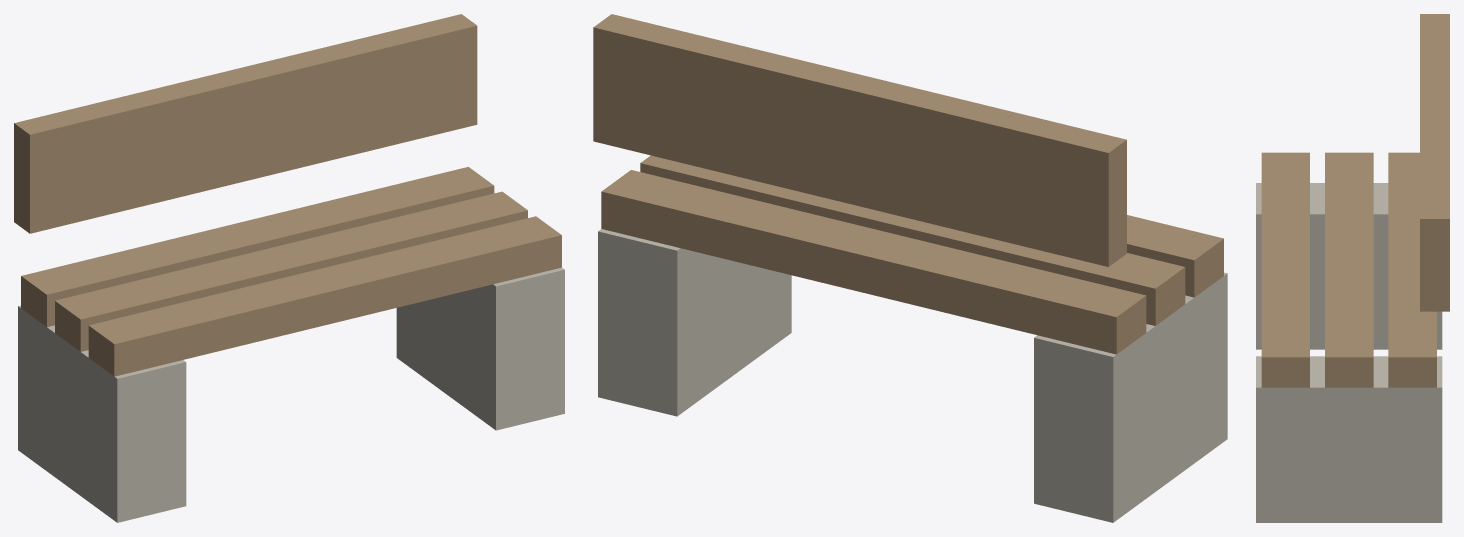
Rendered from bench.glb.
3 renders of one model, left to right at view 1: azimuth 30°, elevation 25°; view 2: azimuth 150°, elevation 25°; view 3: azimuth 270°, elevation 25°, orthographic. The views are drawn at different scales.
Visible parts, largest first — view 1: bench; view 2: bench; view 3: bench.
Boxes of the visible parts, x1,y1,x2,y2 form: bench: (14,14,564,522); bench: (593,14,1227,522); bench: (1256,14,1449,522).
Bounding box in the file's own units: 26 × 18 × 10.4.
